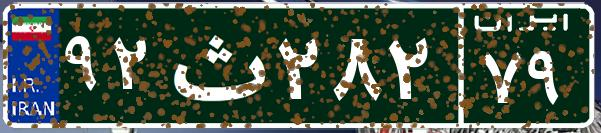2: (385, 28, 445, 110), (273, 28, 330, 110), (110, 28, 158, 105)
7: (475, 38, 525, 113)
8: (330, 28, 385, 110)
9: (57, 26, 110, 107), (525, 38, 570, 115)
ث: (158, 15, 273, 115)
